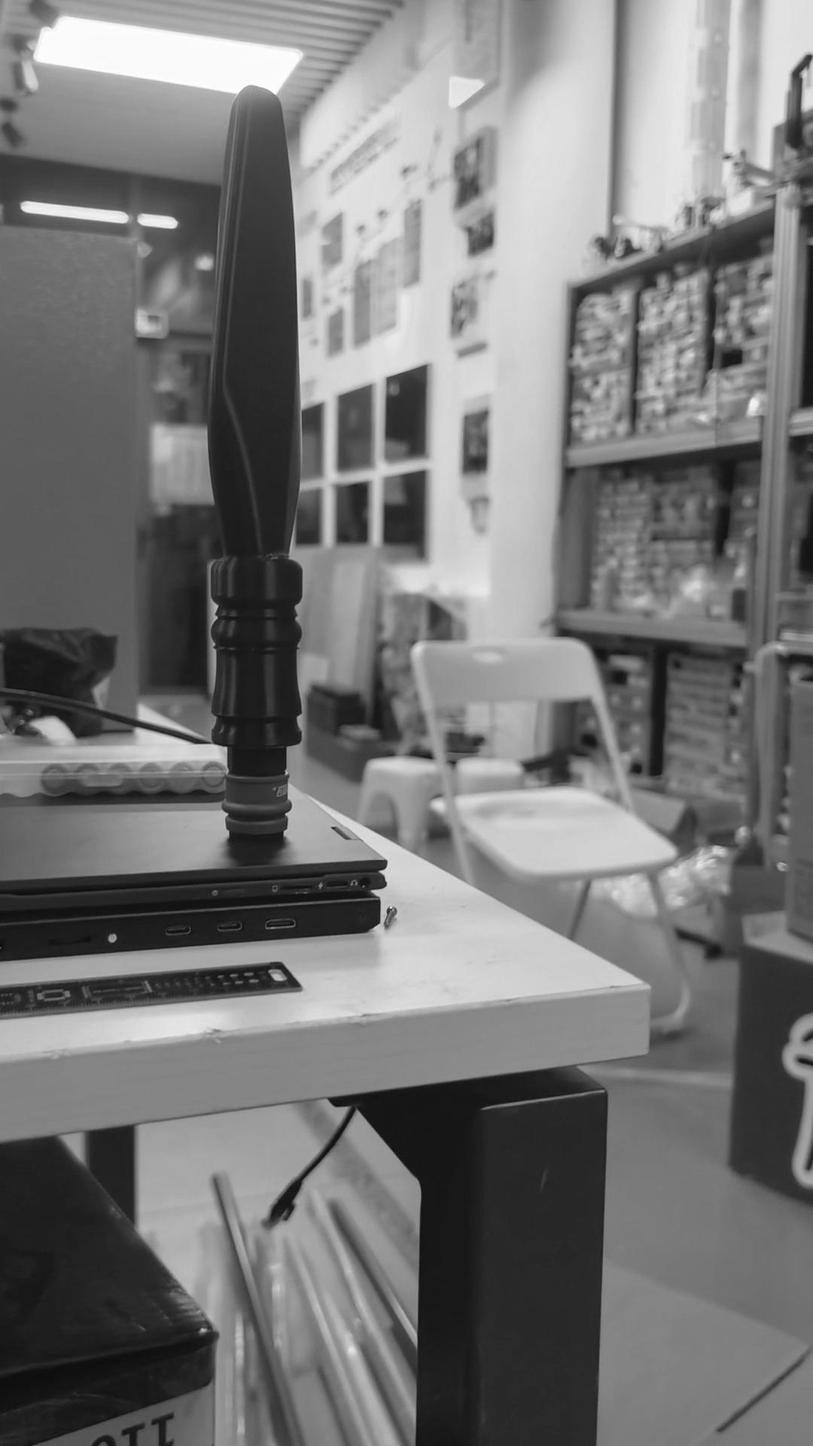base: (216, 761, 296, 852)
